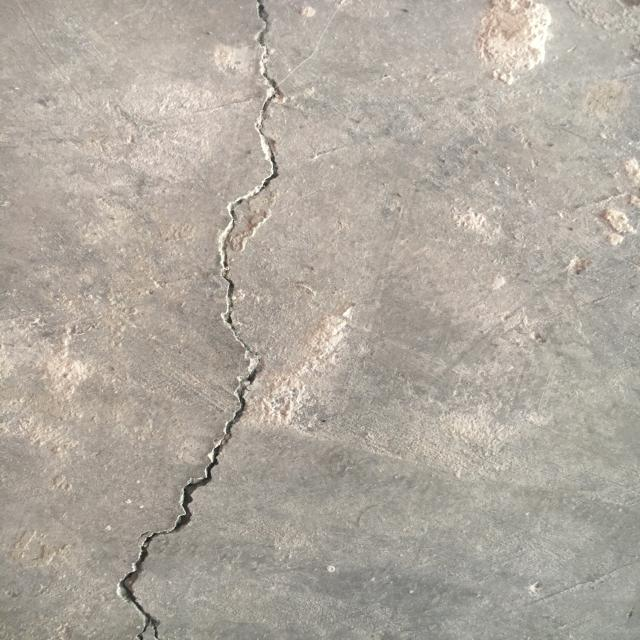Rachadura: (114, 0, 287, 640)
